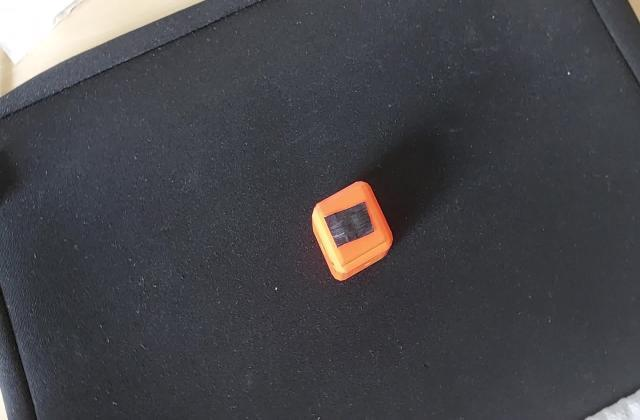black: (316, 200, 380, 252)
sticker: (306, 180, 396, 284)
